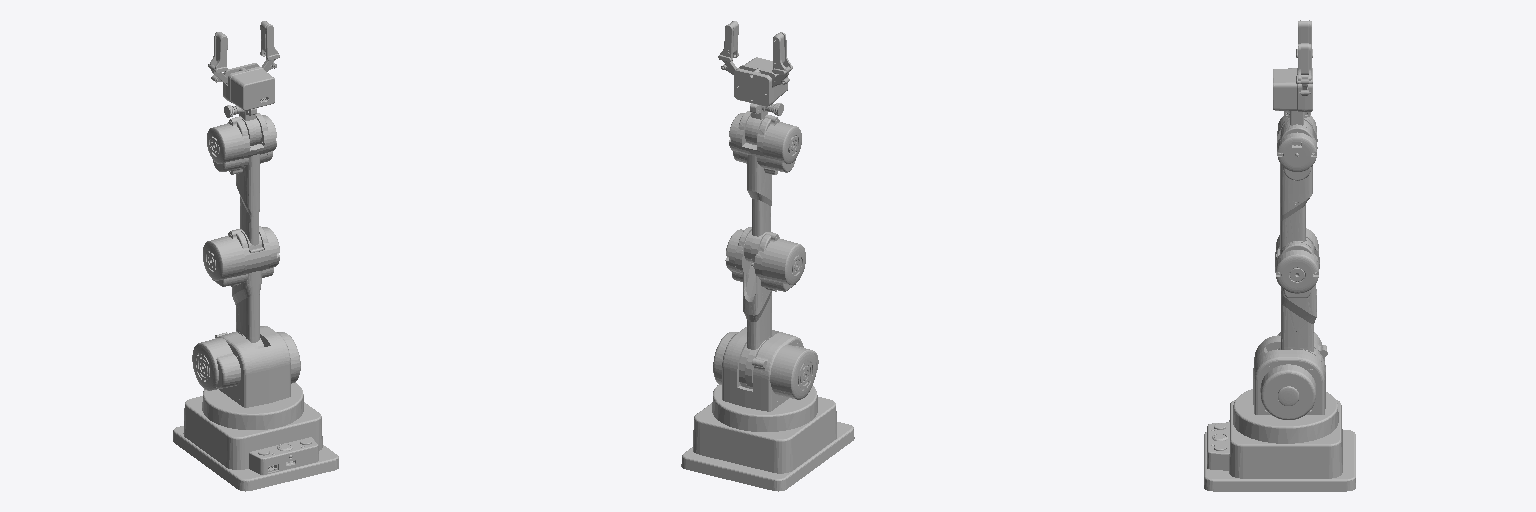
URDF robot description (Raccoon.SLDASM):
<?xml version="1.0" encoding="utf-8"?>
<!-- This URDF was automatically created by SolidWorks to URDF Exporter! Originally created by Stephen Brawner (brawner@gmail.com) 
     Commit Version: 1.5.1-0-g916b5db  Build Version: 1.5.7152.31018
     For more information, please see http://wiki.ros.org/sw_urdf_exporter -->
<robot
  name="Raccoon.SLDASM">
  <link
    name="base_link">
    <inertial>
      <origin
        xyz="-1.683E-05 -0.014249 0.0092419"
        rpy="0 0 0" />
      <mass
        value="0.57431" />
      <inertia
        ixx="0.00055171"
        ixy="1E-07"
        ixz="-2.5E-07"
        iyy="0.00034874"
        iyz="-8.36E-06"
        izz="0.00076716" />
    </inertial>
    <visual>
      <origin
        xyz="0 0 0"
        rpy="0 0 0" />
      <geometry>
        <mesh
          filename="package://Raccoon.SLDASM/meshes/base_link.STL" />
      </geometry>
      <material
        name="">
        <color
          rgba="0.75294 0.75294 0.75294 1" />
      </material>
    </visual>
    <collision>
      <origin
        xyz="0 0 0"
        rpy="0 0 0" />
      <geometry>
        <mesh
          filename="package://Raccoon.SLDASM/meshes/base_link.STL" />
      </geometry>
    </collision>
  </link>
  <link
    name="Link1">
    <inertial>
      <origin
        xyz="-0.013986 -0.0022667 0.020829"
        rpy="0 0 0" />
      <mass
        value="0.1138" />
      <inertia
        ixx="3.782E-05"
        ixy="-4.25E-06"
        ixz="-5.23E-06"
        iyy="5.381E-05"
        iyz="4.4E-07"
        izz="5.232E-05" />
    </inertial>
    <visual>
      <origin
        xyz="0 0 0"
        rpy="0 0 0" />
      <geometry>
        <mesh
          filename="package://Raccoon.SLDASM/meshes/Link1.STL" />
      </geometry>
      <material
        name="">
        <color
          rgba="0.75294 0.75294 0.75294 1" />
      </material>
    </visual>
    <collision>
      <origin
        xyz="0 0 0"
        rpy="0 0 0" />
      <geometry>
        <mesh
          filename="package://Raccoon.SLDASM/meshes/Link1.STL" />
      </geometry>
    </collision>
  </link>
  <joint
    name="Joint1"
    type="revolute">
    <origin
      xyz="0 0 0.057088"
      rpy="0 0 0" />
    <parent
      link="base_link" />
    <child
      link="Link1" />
    <axis
      xyz="0 0 1" />
    <limit
      lower="-2.0944"
      upper="2.0944"
      effort="0"
      velocity="0" />
    <dynamics
      damping="0.5" />
  </joint>
  <link
    name="Link2">
    <inertial>
      <origin
        xyz="0.0068563 -0.07084 0.008848"
        rpy="0 0 0" />
      <mass
        value="0.0687" />
      <inertia
        ixx="0.00010249"
        ixy="-1.051E-05"
        ixz="4.69E-06"
        iyy="2.164E-05"
        iyz="-1.41E-05"
        izz="0.00010108" />
    </inertial>
    <visual>
      <origin
        xyz="0 0 0"
        rpy="0 0 0" />
      <geometry>
        <mesh
          filename="package://Raccoon.SLDASM/meshes/Link2.STL" />
      </geometry>
      <material
        name="">
        <color
          rgba="0.75294 0.75294 0.75294 1" />
      </material>
    </visual>
    <collision>
      <origin
        xyz="0 0 0"
        rpy="0 0 0" />
      <geometry>
        <mesh
          filename="package://Raccoon.SLDASM/meshes/Link2.STL" />
      </geometry>
    </collision>
  </link>
  <joint
    name="Joint2"
    type="revolute">
    <origin
      xyz="0 0 0.023662"
      rpy="-1.5708 0 1.5708" />
    <parent
      link="Link1" />
    <child
      link="Link2" />
    <axis
      xyz="0 0 1" />
    <limit
      lower="-0.5237"
      upper="1.5707"
      effort="0"
      velocity="0" />
    <dynamics
      damping="0.5" />
  </joint>
  <link
    name="Link3">
    <inertial>
      <origin
        xyz="0.0095601 0.090032 0.013618"
        rpy="0 0 0" />
      <mass
        value="0.058" />
      <inertia
        ixx="4.769E-05"
        ixy="5.89E-06"
        ixz="2.24E-06"
        iyy="1.241E-05"
        iyz="6.78E-06"
        izz="4.65E-05" />
    </inertial>
    <visual>
      <origin
        xyz="0 0 0"
        rpy="0 0 0" />
      <geometry>
        <mesh
          filename="package://Raccoon.SLDASM/meshes/Link3.STL" />
      </geometry>
      <material
        name="">
        <color
          rgba="0.75294 0.75294 0.75294 1" />
      </material>
    </visual>
    <collision>
      <origin
        xyz="0 0 0"
        rpy="0 0 0" />
      <geometry>
        <mesh
          filename="package://Raccoon.SLDASM/meshes/Link3.STL" />
      </geometry>
    </collision>
  </link>
  <joint
    name="Joint3"
    type="revolute">
    <origin
      xyz="1.0056E-05 -0.1 0"
      rpy="0 0 3.1416" />
    <parent
      link="Link2" />
    <child
      link="Link3" />
    <axis
      xyz="0 0 1" />
    <limit
      lower="0"
      upper="2.618"
      effort="0"
      velocity="0" />
    <dynamics
      damping="0.5" />
  </joint>
  <link
    name="Link4">
    <inertial>
      <origin
        xyz="0.00025955 0.012236 0.0056516"
        rpy="0 0 0" />
      <mass
        value="0.0105" />
      <inertia
        ixx="2.17E-06"
        ixy="0"
        ixz="0"
        iyy="1.06E-06"
        iyz="6.6E-07"
        izz="1.67E-06" />
    </inertial>
    <visual>
      <origin
        xyz="0 0 0"
        rpy="0 0 0" />
      <geometry>
        <mesh
          filename="package://Raccoon.SLDASM/meshes/Link4.STL" />
      </geometry>
      <material
        name="">
        <color
          rgba="0.75294 0.75294 0.75294 1" />
      </material>
    </visual>
    <collision>
      <origin
        xyz="0 0 0"
        rpy="0 0 0" />
      <geometry>
        <mesh
          filename="package://Raccoon.SLDASM/meshes/Link4.STL" />
      </geometry>
    </collision>
  </link>
  <joint
    name="Joint4"
    type="revolute">
    <origin
      xyz="-1.0056E-05 0.1 0"
      rpy="0 0 0" />
    <parent
      link="Link3" />
    <child
      link="Link4" />
    <axis
      xyz="0 0 1" />
    <limit
      lower="-1.8326"
      upper="1.8326"
      effort="0"
      velocity="0" />
    <dynamics
      damping="0.5" />
  </joint>
  <link
    name="Gripper_Body">
    <inertial>
      <origin
        xyz="0.0040955 0.039683 0.0016368"
        rpy="0 0 0" />
      <mass
        value="0.0142" />
      <inertia
        ixx="1.92E-06"
        ixy="1.3E-07"
        ixz="1E-07"
        iyy="2.28E-06"
        iyz="7E-08"
        izz="2.06E-06" />
    </inertial>
    <visual>
      <origin
        xyz="0 0 0"
        rpy="0 0 0" />
      <geometry>
        <mesh
          filename="package://Raccoon.SLDASM/meshes/Gripper_Body.STL" />
      </geometry>
      <material
        name="">
        <color
          rgba="0.75294 0.75294 0.75294 1" />
      </material>
    </visual>
    <collision>
      <origin
        xyz="0 0 0"
        rpy="0 0 0" />
      <geometry>
        <mesh
          filename="package://Raccoon.SLDASM/meshes/Gripper_Body.STL" />
      </geometry>
    </collision>
  </link>
  <joint
    name="Gripper_Body"
    type="fixed">
    <origin
      xyz="0 0 0"
      rpy="0 0 0" />
    <parent
      link="Link4" />
    <child
      link="Gripper_Body" />
    <axis
      xyz="0 0 0" />
    <limit
      lower="-1.8325"
      upper="1.8327"
      effort="0"
      velocity="0" />
  </joint>
  <link
    name="Gripper_L_Inner">
    <inertial>
      <origin
        xyz="-0.0059722 0.0072138 -0.0046001"
        rpy="0 0 0" />
      <mass
        value="0.00058" />
      <inertia
        ixx="3E-08"
        ixy="-2E-08"
        ixz="0"
        iyy="3E-08"
        iyz="0"
        izz="5E-08" />
    </inertial>
    <visual>
      <origin
        xyz="0 0 0"
        rpy="0 0 0" />
      <geometry>
        <mesh
          filename="package://Raccoon.SLDASM/meshes/Gripper_L_Inner.STL" />
      </geometry>
      <material
        name="">
        <color
          rgba="0.69804 0.69804 0.69804 0.32" />
      </material>
    </visual>
    <collision>
      <origin
        xyz="0 0 0"
        rpy="0 0 0" />
      <geometry>
        <mesh
          filename="package://Raccoon.SLDASM/meshes/Gripper_L_Inner.STL" />
      </geometry>
    </collision>
  </link>
  <joint
    name="Gripper_L_Inner"
    type="revolute">
    <origin
      xyz="-0.0011487 0.042412 0.005"
      rpy="0 1.5708 0" />
    <parent
      link="Gripper_Body" />
    <child
      link="Gripper_L_Inner" />
    <axis
      xyz="0 0 1" />
    <limit
      lower="0.85"
      upper="0.15701"
      effort="0"
      velocity="0" />
  </joint>
  <link
    name="Gripper_L_Outer">
    <inertial>
      <origin
        xyz="-0.0084869 0.0087458 -0.0045013"
        rpy="0 0 0" />
      <mass
        value="0.00053" />
      <inertia
        ixx="2E-08"
        ixy="0"
        ixz="0"
        iyy="2E-08"
        iyz="0"
        izz="4E-08" />
    </inertial>
    <visual>
      <origin
        xyz="0 0 0"
        rpy="0 0 0" />
      <geometry>
        <mesh
          filename="package://Raccoon.SLDASM/meshes/Gripper_L_Outer.STL" />
      </geometry>
      <material
        name="">
        <color
          rgba="0.69804 0.69804 0.69804 0.32" />
      </material>
    </visual>
    <collision>
      <origin
        xyz="0 0 0"
        rpy="0 0 0" />
      <geometry>
        <mesh
          filename="package://Raccoon.SLDASM/meshes/Gripper_L_Outer.STL" />
      </geometry>
    </collision>
  </link>
  <joint
    name="Gripper_L_Outer"
    type="revolute">
    <origin
      xyz="-0.0010987 0.042412 0.0125"
      rpy="0 1.5708 0" />
    <parent
      link="Gripper_Body" />
    <child
      link="Gripper_L_Outer" />
    <axis
      xyz="0 0 1" />
    <limit
      lower="-0.85"
      upper="0.163"
      effort="0"
      velocity="0" />
  </joint>
  <link
    name="Gripper_L_Finger">
    <inertial>
      <origin
        xyz="0.0061645 0.013303 -0.0049078"
        rpy="0 0 0" />
      <mass
        value="0.002184" />
      <inertia
        ixx="2E-07"
        ixy="2E-08"
        ixz="0"
        iyy="4E-08"
        iyz="0"
        izz="1.8E-07" />
    </inertial>
    <visual>
      <origin
        xyz="0 0 0"
        rpy="0 0 0" />
      <geometry>
        <mesh
          filename="package://Raccoon.SLDASM/meshes/Gripper_L_Finger.STL" />
      </geometry>
      <material
        name="">
        <color
          rgba="0.75294 0.75294 0.75294 1" />
      </material>
    </visual>
    <collision>
      <origin
        xyz="0 0 0"
        rpy="0 0 0" />
      <geometry>
        <mesh
          filename="package://Raccoon.SLDASM/meshes/Gripper_L_Finger.STL" />
      </geometry>
    </collision>
  </link>
  <joint
    name="Gripper_L_Finger"
    type="revolute">
    <origin
      xyz="-0.015385 0.017298 0.00025815"
      rpy="0 0 0" />
    <parent
      link="Gripper_L_Outer" />
    <child
      link="Gripper_L_Finger" />
    <axis
      xyz="0 0 1" />
    <limit
      lower="-0.2"
      upper="0.9"
      effort="0"
      velocity="0" />
  </joint>
  <link
    name="Gripper_R_Inner">
    <inertial>
      <origin
        xyz="0.0055753 0.0073917 -0.0044419"
        rpy="0 0 0" />
      <mass
        value="0.00057857" />
      <inertia
        ixx="3E-08"
        ixy="2E-08"
        ixz="0"
        iyy="3E-08"
        iyz="0"
        izz="5E-08" />
    </inertial>
    <visual>
      <origin
        xyz="0 0 0"
        rpy="0 0 0" />
      <geometry>
        <mesh
          filename="package://Raccoon.SLDASM/meshes/Gripper_R_Inner.STL" />
      </geometry>
      <material
        name="">
        <color
          rgba="0.69804 0.69804 0.69804 0.32" />
      </material>
    </visual>
    <collision>
      <origin
        xyz="0 0 0"
        rpy="0 0 0" />
      <geometry>
        <mesh
          filename="package://Raccoon.SLDASM/meshes/Gripper_R_Inner.STL" />
      </geometry>
    </collision>
  </link>
  <joint
    name="Gripper_R_Inner"
    type="revolute">
    <origin
      xyz="-0.0011487 0.041715 -0.0049757"
      rpy="0 1.5708 0" />
    <parent
      link="Gripper_Body" />
    <child
      link="Gripper_R_Inner" />
    <axis
      xyz="0 0 1" />
    <limit
      lower="-0.15701"
      upper="0.85"
      effort="0"
      velocity="0" />
    <mimic
      joint="Gripper_L_Inner"
      multiplier="-1"
      offset="0" />
  </joint>
  <link
    name="Gripper_R_Outer">
    <inertial>
      <origin
        xyz="0.0084821 0.0087504 -0.0045013"
        rpy="0 0 0" />
      <mass
        value="0.00053" />
      <inertia
        ixx="2E-08"
        ixy="0"
        ixz="0"
        iyy="2E-08"
        iyz="0"
        izz="4E-08" />
    </inertial>
    <visual>
      <origin
        xyz="0 0 0"
        rpy="0 0 0" />
      <geometry>
        <mesh
          filename="package://Raccoon.SLDASM/meshes/Gripper_R_Outer.STL" />
      </geometry>
      <material
        name="">
        <color
          rgba="0.69804 0.69804 0.69804 0.32" />
      </material>
    </visual>
    <collision>
      <origin
        xyz="0 0 0"
        rpy="0 0 0" />
      <geometry>
        <mesh
          filename="package://Raccoon.SLDASM/meshes/Gripper_R_Outer.STL" />
      </geometry>
    </collision>
  </link>
  <joint
    name="Gripper_R_Outer"
    type="revolute">
    <origin
      xyz="-0.0010988 0.042412 -0.0125"
      rpy="0 1.5708 0" />
    <parent
      link="Gripper_Body" />
    <child
      link="Gripper_R_Outer" />
    <axis
      xyz="0 0 1" />
    <limit
      lower="-0.181"
      upper="0.85"
      effort="0"
      velocity="0" />
  </joint>
  <link
    name="Gripper_R_Finger">
    <inertial>
      <origin
        xyz="-0.0061642 0.013303 -0.0048578"
        rpy="0 0 0" />
      <mass
        value="0.002184" />
      <inertia
        ixx="2E-07"
        ixy="-2E-08"
        ixz="0"
        iyy="4E-08"
        iyz="0"
        izz="1.8E-07" />
    </inertial>
    <visual>
      <origin
        xyz="0 0 0"
        rpy="0 0 0" />
      <geometry>
        <mesh
          filename="package://Raccoon.SLDASM/meshes/Gripper_R_Finger.STL" />
      </geometry>
      <material
        name="">
        <color
          rgba="0.75294 0.75294 0.75294 1" />
      </material>
    </visual>
    <collision>
      <origin
        xyz="0 0 0"
        rpy="0 0 0" />
      <geometry>
        <mesh
          filename="package://Raccoon.SLDASM/meshes/Gripper_R_Finger.STL" />
      </geometry>
    </collision>
  </link>
  <joint
    name="Gripper_R_Finger"
    type="revolute">
    <origin
      xyz="0.015375 0.017307 0.00025815"
      rpy="0 0 0" />
    <parent
      link="Gripper_R_Outer" />
    <child
      link="Gripper_R_Finger" />
    <axis
      xyz="0 0 1" />
    <limit
      lower="-0.9"
      upper="0.2"
      effort="0"
      velocity="0" />
  </joint>
</robot>

--- Facts derived from the render (not from the file) ---
Views: 3 orthographic renders of the robot side by side, from view 1: azimuth 30°, elevation 25°; view 2: azimuth 150°, elevation 25°; view 3: azimuth 270°, elevation 25°.
Model Raccoon.SLDASM with 12 links and 11 joints (10 revolute, 1 fixed), rooted at base_link, posed all joints at 0 but 1 set to mid-range because 0 is outside their limits (Gripper_L_Inner = 0.5035, Gripper_R_Inner = -0.5035).
Visible links, largest first — view 1: base_link, Link1, Link2, Link3, Gripper_Body, Link4, Gripper_L_Finger; view 2: base_link, Link1, Link2, Link3, Gripper_Body, Link4, Gripper_L_Finger, Gripper_R_Finger; view 3: base_link, Link1, Link2, Link3, Gripper_Body.
Boxes of the visible links, x1,y1,x2,y2 form: base_link: (173,382,338,491); Link1: (192,326,300,407); Link2: (203,226,279,348); Link3: (207,113,276,252); Gripper_Body: (223,63,274,110); Link4: (224,105,261,145); Gripper_L_Finger: (208,32,227,72); base_link: (681,385,854,491); Link1: (713,327,818,411); Link2: (725,227,805,388); Link3: (729,111,801,262); Gripper_Body: (734,57,787,106); Link4: (745,103,783,144); Gripper_L_Finger: (772,32,792,74); Gripper_R_Finger: (718,21,738,61); base_link: (1204,389,1355,491); Link1: (1253,332,1327,419); Link2: (1275,228,1325,372); Link3: (1277,115,1317,257); Gripper_Body: (1273,68,1312,111).
Bounding box of the posed robot: 0.093 × 0.118 × 0.3695 m (x, y, z).
12 mesh visuals loaded from 12 distinct referenced files (12 binary STL).
